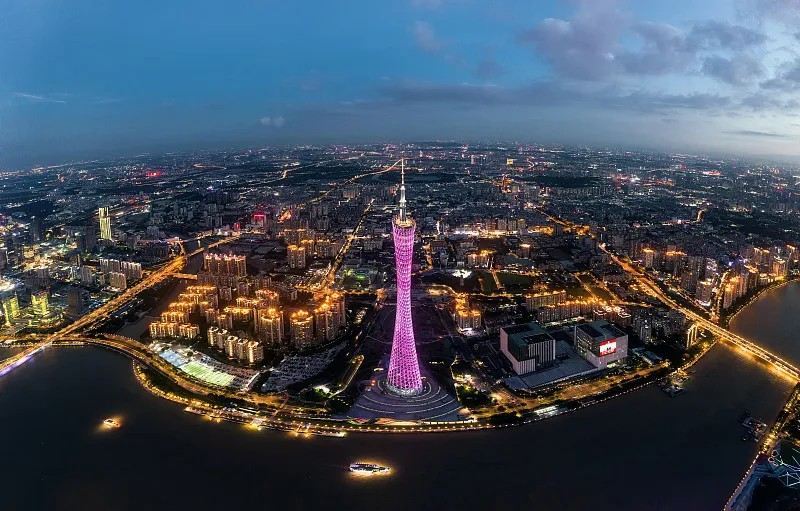Canton: (385, 158, 426, 397)
